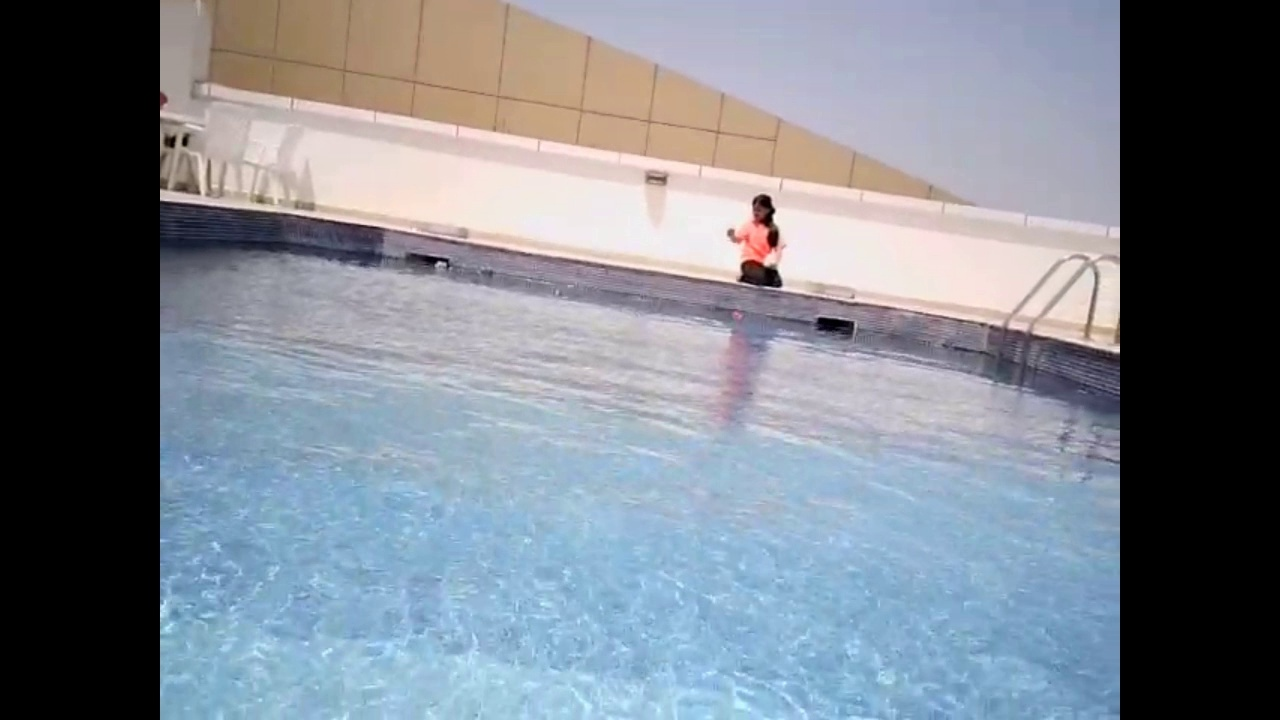debris: (730, 306, 746, 327), (477, 265, 499, 279), (434, 258, 449, 271)
